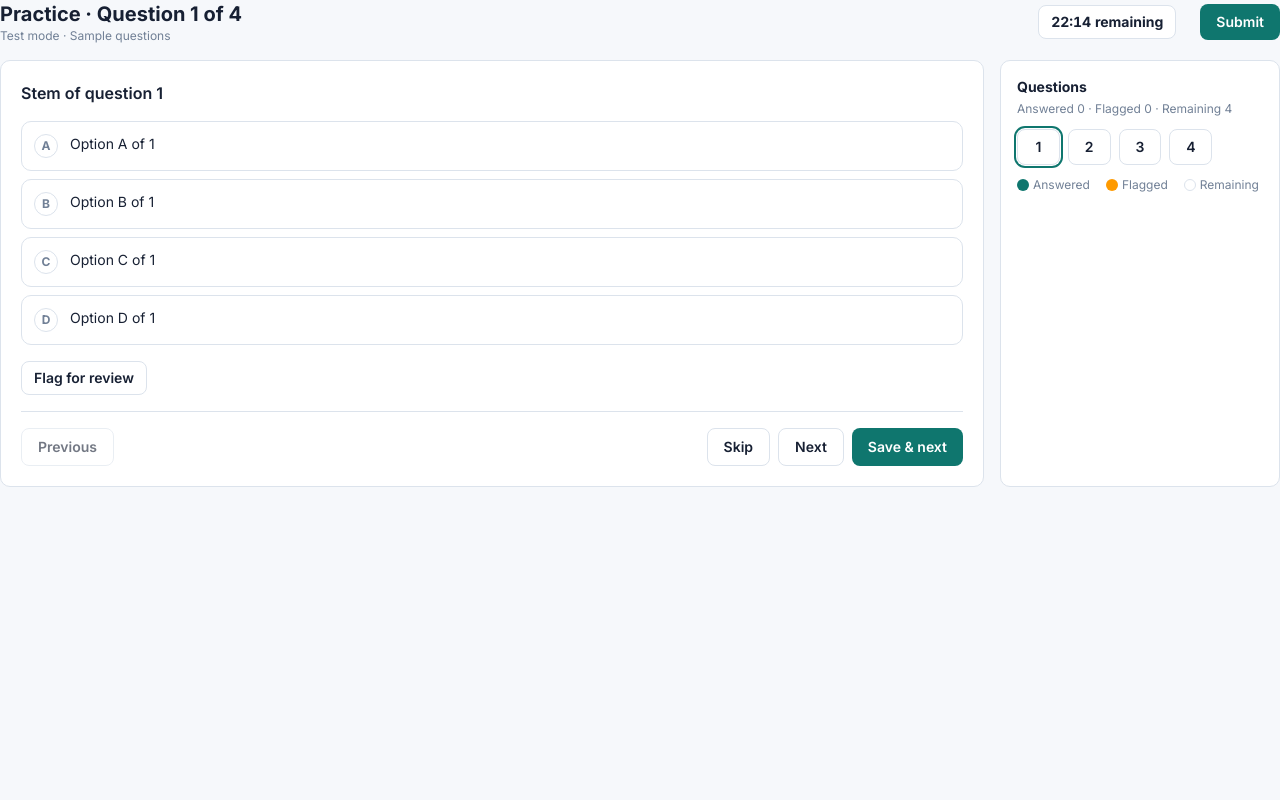
Test: Workspace submit › lists unanswered and flagged counts
Press a
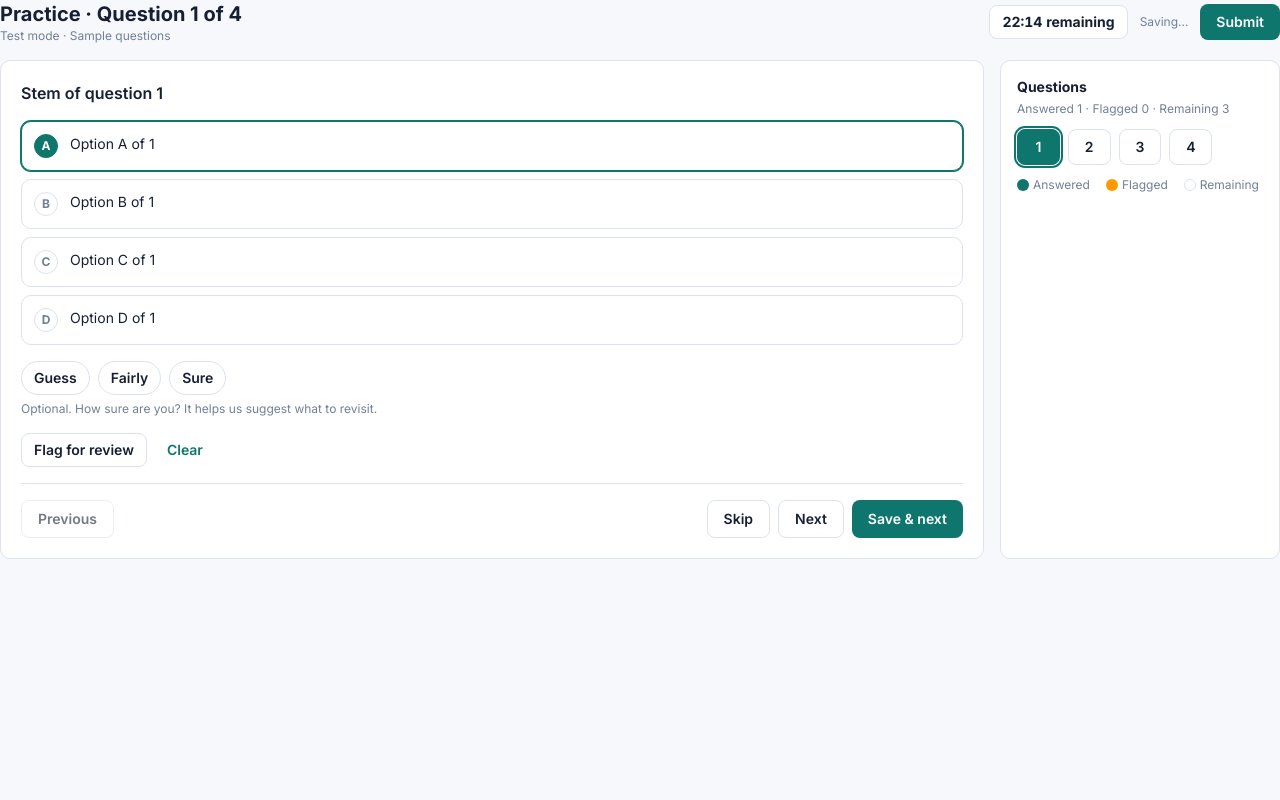
Press n
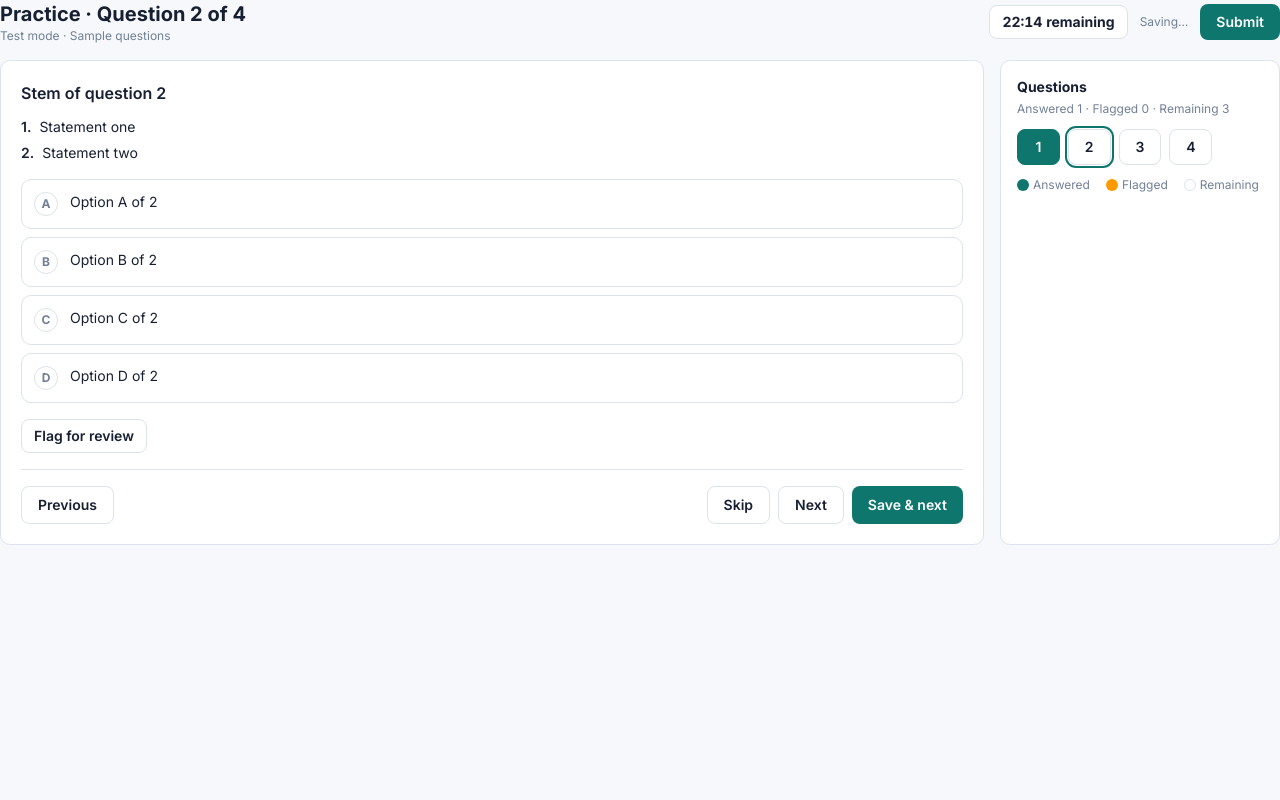
Press f
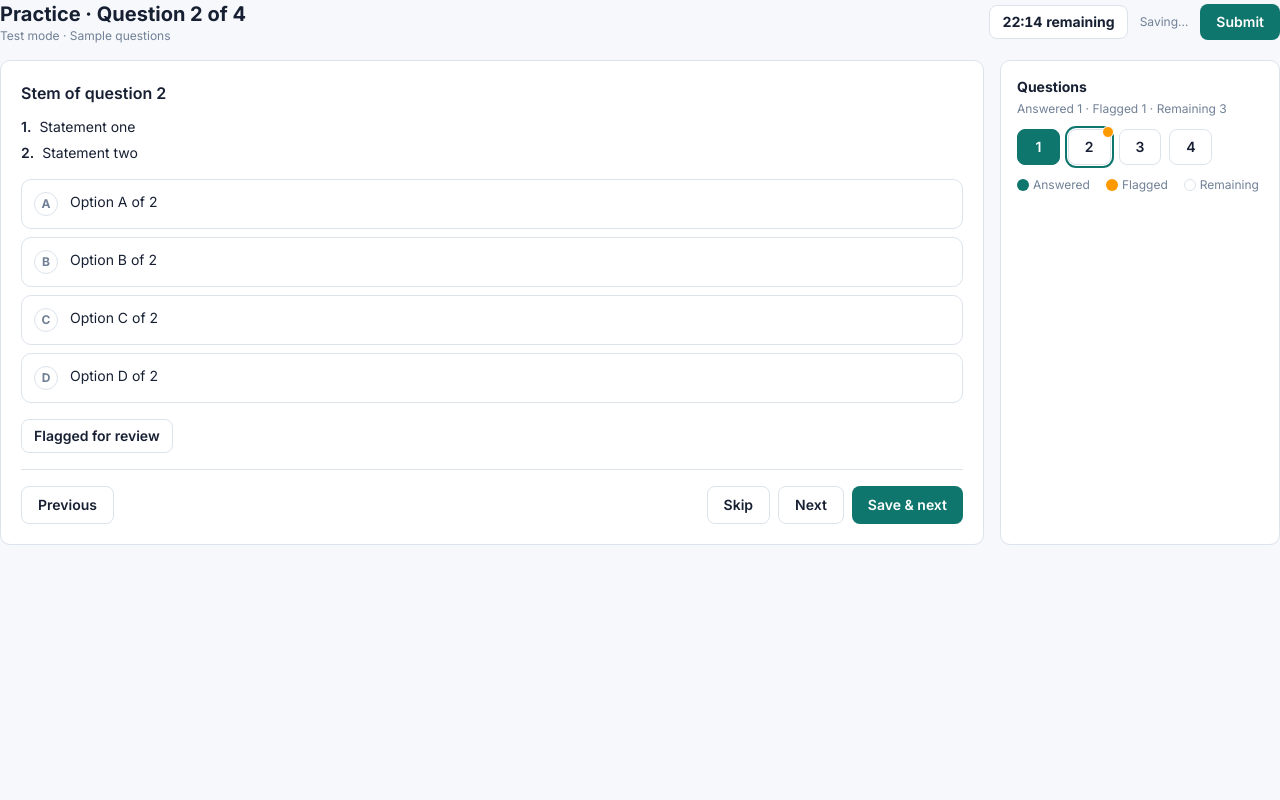
Click the button "Submit". click: (1240,22)
box: top-left (1200, 4), bottom-right (1279, 40)
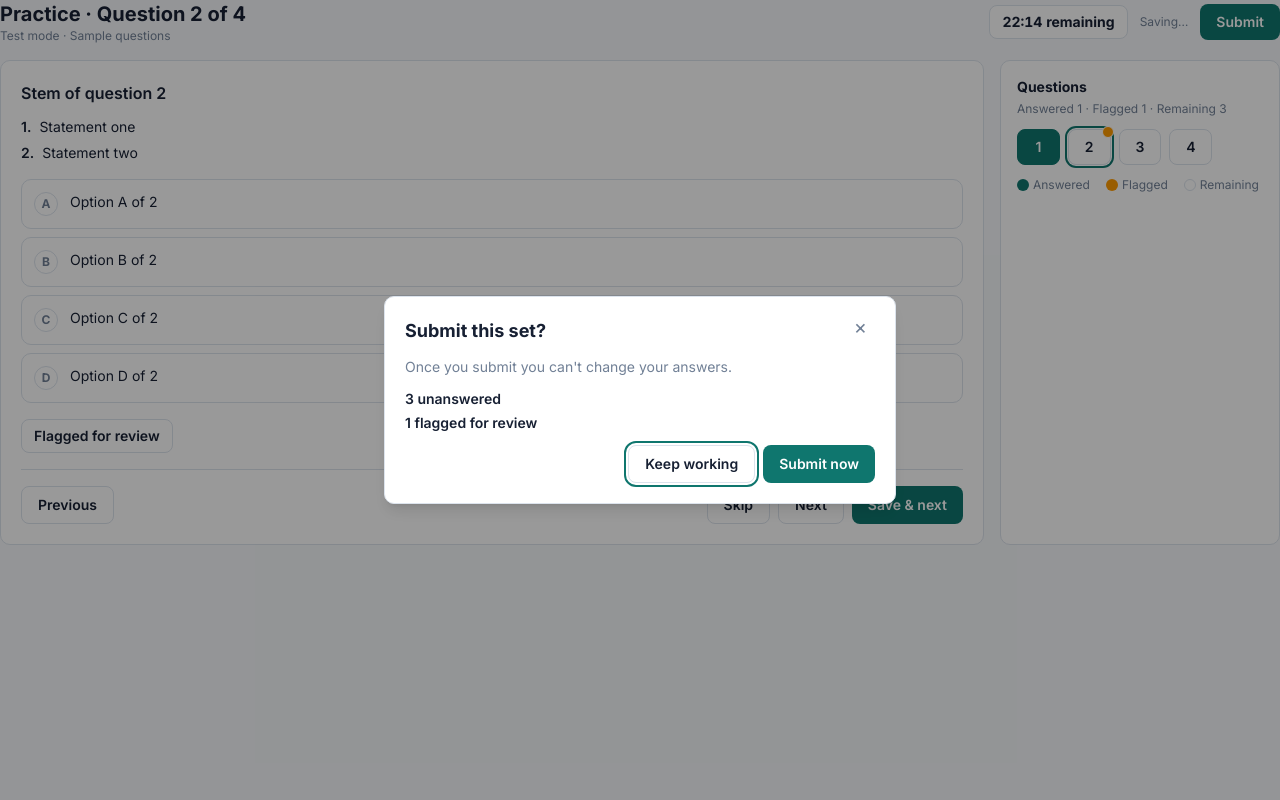
Expected: the list item "3 unanswered" is shown, top-left (405, 390), bottom-right (501, 407)
Expected: the list item "1 flagged for review" is shown, top-left (405, 414), bottom-right (537, 431)
